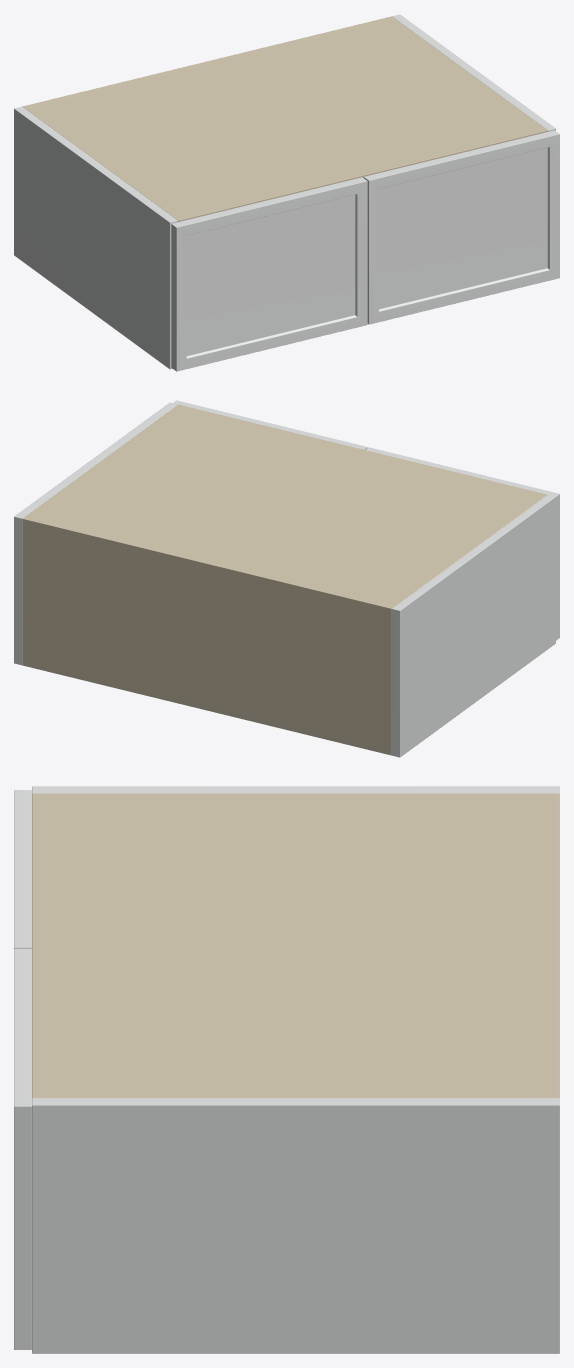
Rendered from oppein-ply-ssw-w331224.glb.
The picture shows the model from 3 angles, top to bottom: view 1: azimuth 30°, elevation 25°; view 2: azimuth 150°, elevation 25°; view 3: azimuth 270°, elevation 25°; orthographic projection. The views are drawn at different scales.
Visible parts, largest first — view 1: Cabinet top, Door, Door.001, Cabinet side, Cabinet side.001, Cabinet back; view 2: Cabinet top, Cabinet back, Cabinet side, Cabinet side.001, Cabinet bottom, Door, Door.001; view 3: Cabinet top, Cabinet side.001, Door.001, Cabinet side, Cabinet back, Door.
Part boxes in pixels (x1=…): Cabinet top: x1=25, y1=17, x2=547, y2=221; Door: x1=171, y1=177, x2=367, y2=371; Door.001: x1=363, y1=130, x2=559, y2=324; Cabinet side: x1=14, y1=106, x2=177, y2=369; Cabinet side.001: x1=392, y1=14, x2=555, y2=131; Cabinet back: x1=22, y1=16, x2=394, y2=108; Cabinet top: x1=22, y1=404, x2=547, y2=613; Cabinet back: x1=22, y1=516, x2=394, y2=755; Cabinet side: x1=392, y1=495, x2=555, y2=757; Cabinet side.001: x1=14, y1=402, x2=177, y2=665; Cabinet bottom: x1=22, y1=664, x2=391, y2=755; Door: x1=365, y1=447, x2=559, y2=640; Door.001: x1=173, y1=400, x2=367, y2=449; Cabinet top: x1=32, y1=793, x2=559, y2=1098; Cabinet side.001: x1=32, y1=1098, x2=559, y2=1353; Door.001: x1=14, y1=948, x2=31, y2=1349; Cabinet side: x1=32, y1=786, x2=559, y2=793; Cabinet back: x1=549, y1=793, x2=559, y2=1098; Door: x1=14, y1=790, x2=31, y2=948.
Size of the model in its own units: 0.8382 by 0.3048 by 0.6064.
